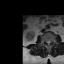CCS_normal: (48, 39, 49, 47)
LFS_stenosis: (51, 39, 52, 44)
LLS_stenosis: (49, 39, 51, 44)
RFS_severe_stenosis: (44, 39, 46, 43)
RLS_stenosis: (46, 40, 48, 44)
